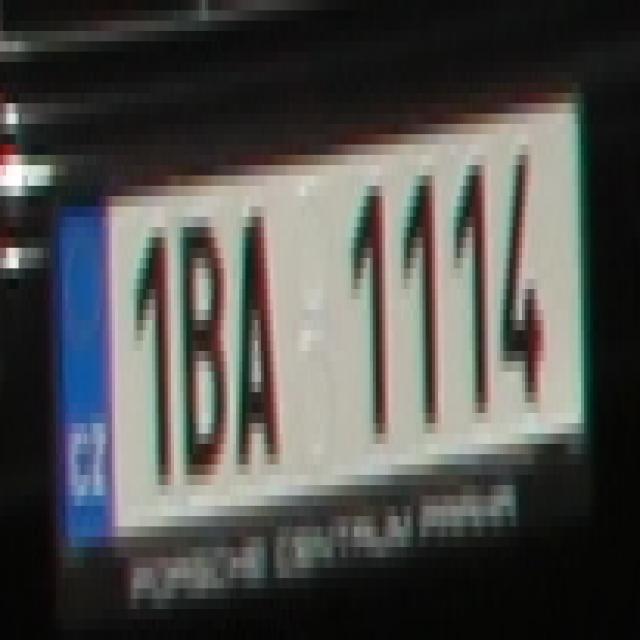1: (345, 175, 394, 434), (398, 165, 441, 423), (130, 206, 171, 475), (453, 155, 488, 413)
4: (497, 144, 547, 413)
A: (233, 196, 283, 475)
B: (177, 206, 227, 475)
